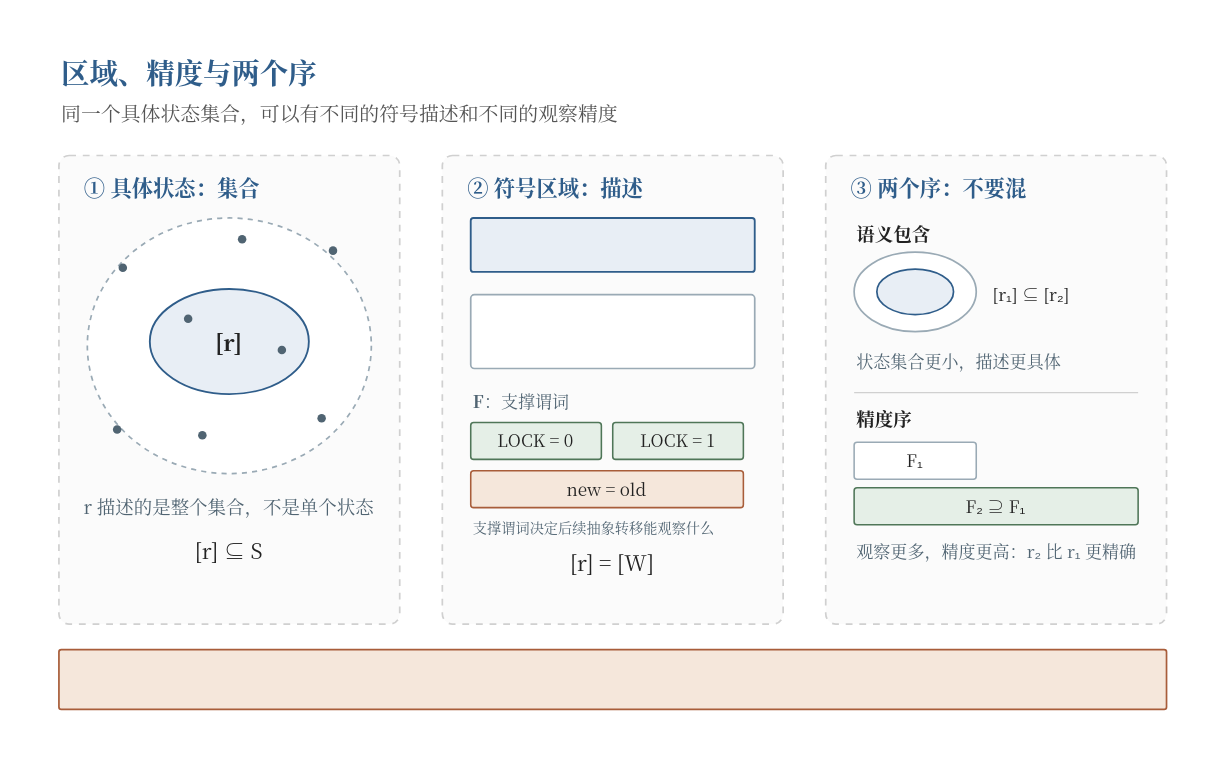
The diagram is 1224 pixels wide and 758 high, and some of its shapes have lost their labels. Each missing label, with the centre of its shape:
"r = (W, F)" belongs at point (612, 244).
"W ：当前状态的布尔公式 LOCK = 0" belongs at point (612, 331).
"精化改的是 F，不一定改 W ：⟦r⟧ 可以不变，但后续抽象 post 能保留更多信息" belongs at point (612, 678).
